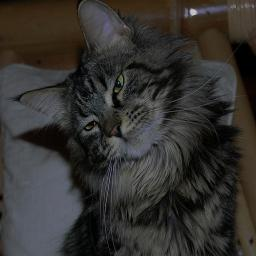catnose: (107, 121, 123, 141)
